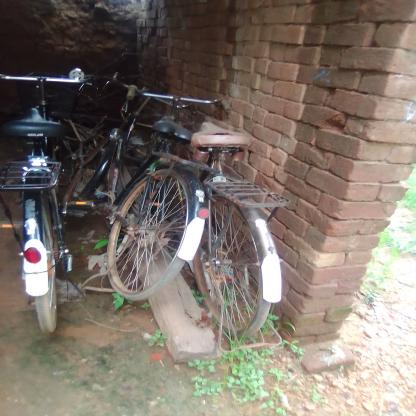bike: (82, 42, 203, 316), (0, 54, 103, 350)
